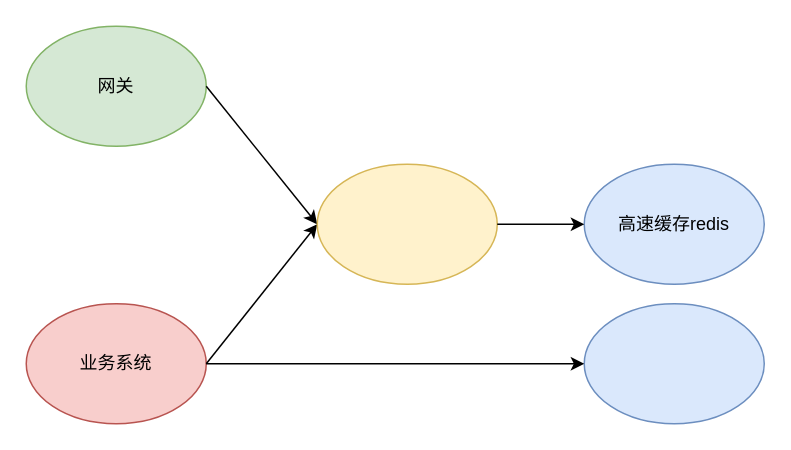
This 791x450 diagram has some shape labels left out. The shapes that lost their labels are listed below. From the top down, each one's centre as x and y in pixels, then its label:
the point at 406,223: 用户中心
the point at 673,363: redis
